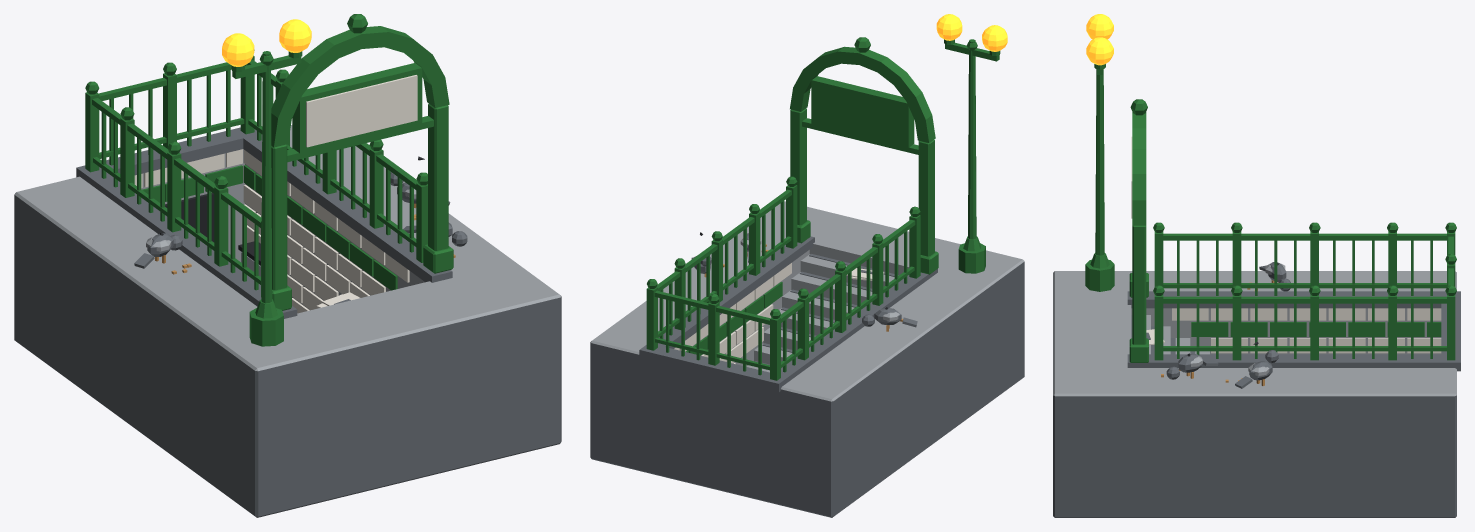
Rendered from subway-entrance.glb.
The picture shows the model from 3 angles, left to right: view 1: azimuth 30°, elevation 25°; view 2: azimuth 150°, elevation 25°; view 3: azimuth 270°, elevation 25°; orthographic projection. The views are drawn at different scales.
Parts seen in each view (by area): view 1: Sidewalk, Railing, Arch, Coping, Tiles, SignFace, Lamp, Sign, TilesBand, Globes, Pigeon_3, Passage; view 2: Sidewalk, Railing, Arch, Coping, Sign, Stairs, Lamp, Tiles, Globes, TilesBand, Nosing, Pigeon_3; view 3: Sidewalk, Railing, Coping, Tiles, Arch, TilesBand, Lamp, Globes, Pigeon_2, Pigeon_1, Stairs.
Part boxes in pixels (x1=…): Sidewalk: x1=14, y1=125, x2=561, y2=517; Railing: x1=85, y1=50, x2=427, y2=296; Arch: x1=271, y1=14, x2=453, y2=310; Coping: x1=76, y1=127, x2=452, y2=318; Tiles: x1=134, y1=149, x2=409, y2=313; SignFace: x1=306, y1=75, x2=417, y2=147; Lamp: x1=231, y1=51, x2=302, y2=346; Sign: x1=287, y1=63, x2=433, y2=162; TilesBand: x1=142, y1=165, x2=397, y2=290; Globes: x1=222, y1=19, x2=311, y2=66; Pigeon_3: x1=134, y1=233, x2=182, y2=268; Passage: x1=165, y1=192, x2=214, y2=242; Sidewalk: x1=590, y1=201, x2=1024, y2=517; Railing: x1=646, y1=176, x2=920, y2=380; Arch: x1=790, y1=37, x2=938, y2=274; Coping: x1=639, y1=236, x2=937, y2=392; Sign: x1=802, y1=76, x2=918, y2=154; Stairs: x1=746, y1=254, x2=894, y2=372; Lamp: x1=944, y1=39, x2=1000, y2=273; Tiles: x1=674, y1=263, x2=791, y2=364; Globes: x1=936, y1=14, x2=1007, y2=51; TilesBand: x1=685, y1=282, x2=782, y2=355; Nosing: x1=755, y1=254, x2=898, y2=364; Pigeon_3: x1=862, y1=307, x2=917, y2=331; Sidewalk: x1=1053, y1=271, x2=1456, y2=517; Railing: x1=1153, y1=222, x2=1456, y2=360; Coping: x1=1127, y1=291, x2=1460, y2=371; Tiles: x1=1172, y1=308, x2=1441, y2=353; Arch: x1=1129, y1=99, x2=1148, y2=362; TilesBand: x1=1191, y1=322, x2=1441, y2=336; Lamp: x1=1085, y1=64, x2=1114, y2=291; Globes: x1=1086, y1=14, x2=1113, y2=65; Pigeon_2: x1=1235, y1=341, x2=1278, y2=388; Pigeon_1: x1=1166, y1=353, x2=1218, y2=379; Stairs: x1=1146, y1=315, x2=1209, y2=354.
Size of the model in its own units: 15.21 by 21.57 by 20.8.
